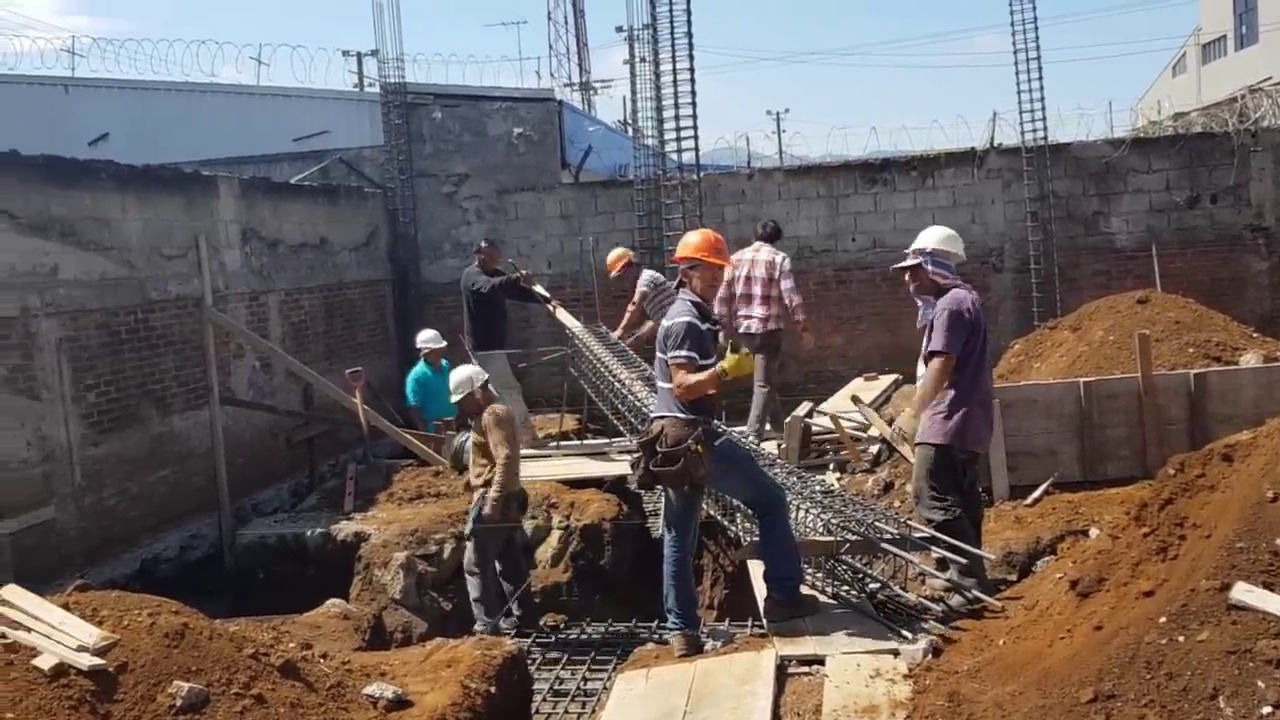helmet: (894, 221, 966, 270), (673, 229, 733, 272), (448, 365, 490, 406), (605, 247, 633, 276), (413, 328, 450, 349)
helmet-off: (470, 241, 500, 271), (757, 218, 785, 246)
helmet-on: (895, 223, 966, 303), (673, 227, 734, 305), (448, 365, 492, 423), (605, 247, 643, 293), (413, 330, 448, 372)
person: (628, 226, 793, 629), (897, 212, 999, 627), (441, 365, 528, 657), (715, 207, 803, 451), (461, 239, 561, 449), (605, 243, 679, 343), (404, 325, 448, 434)
